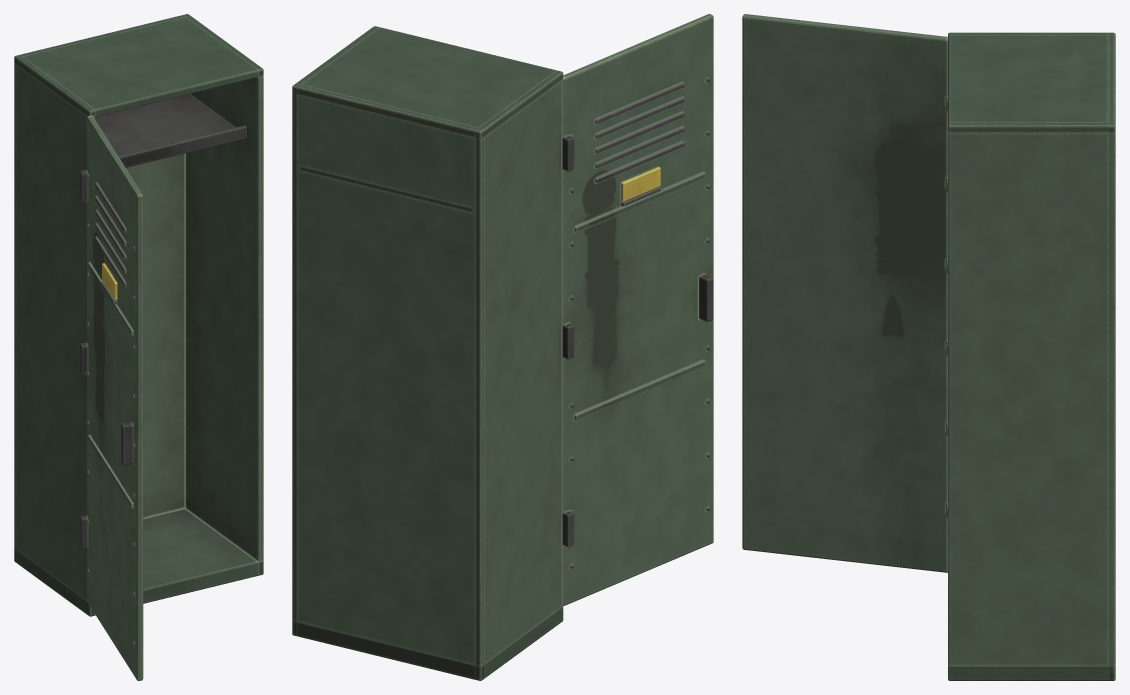
The model's file is airlock_locker_open.glb.
3 renders of one model, left to right at view 1: azimuth 30°, elevation 25°; view 2: azimuth 150°, elevation 25°; view 3: azimuth 270°, elevation 25°, orthographic. The views are drawn at different scales.
Visible parts, largest first — view 1: Locker; view 2: Locker; view 3: Locker.
Part boxes in pixels (x1,y1,x2,y2): Locker: (14,14,263,680); Locker: (292,14,713,680); Locker: (742,14,1115,680).
Bounding box in the file's own units: 0.9613 × 2.05 × 1.25.
7 materials, 7 textured.
